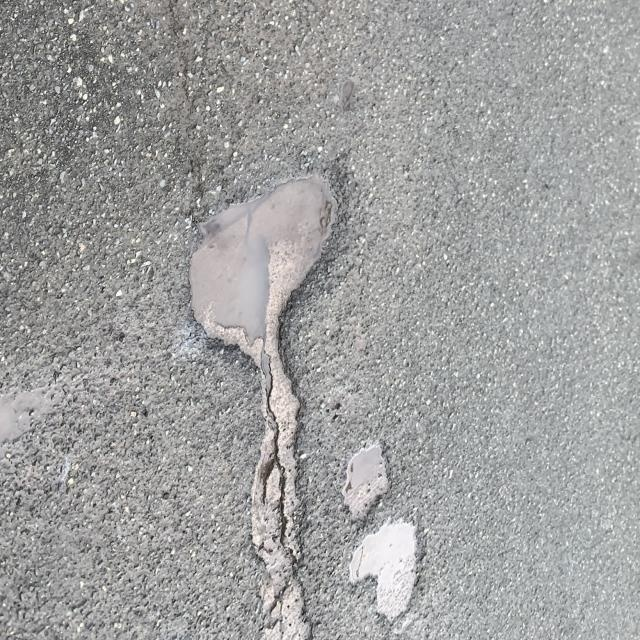pothole: (159, 178, 481, 630)
